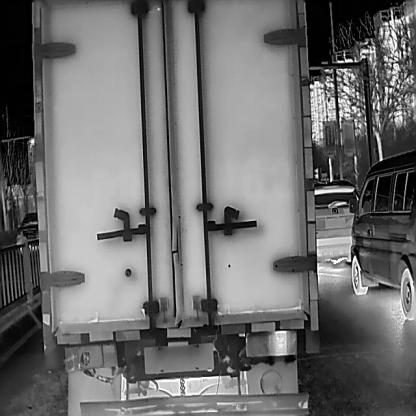car: (350, 152, 415, 322), (313, 181, 354, 268), (15, 211, 37, 251)
truck: (31, 0, 319, 415)
